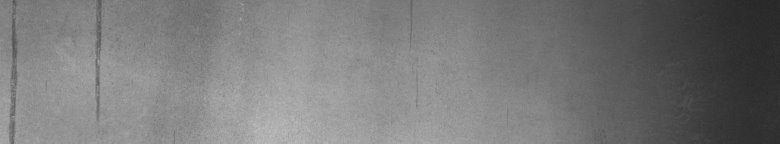hd: (4, 4, 20, 136)
